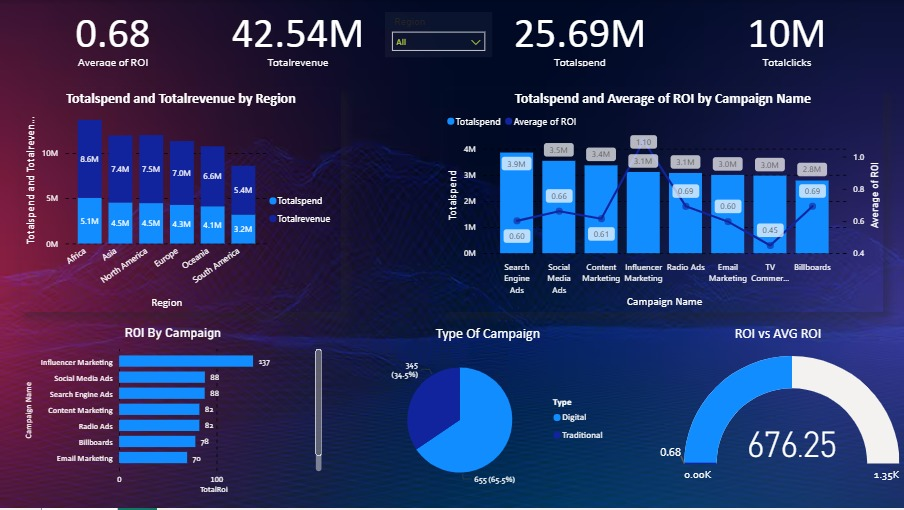

The dashboard page shown, as its layout file describes it:
{"tool":"powerbi","page":{"name":"Page 1","canvas":[1280,720],"ordinal":0},"visuals":[{"type":"columnChart","fields":{"Category":["in.Region"],"Y":["in.Totalspend","in.Totalrevenue"]},"box":[29.8,127.6,453.5,314.6],"z":0},{"type":"card","fields":{"Values":["Avg(in.ROI)"]},"box":[29.8,0,260.8,99.2],"z":1000},{"type":"card","fields":{"Values":["in.Totalrevenue"]},"box":[292,0,260.8,99.2],"z":2000},{"type":"card","fields":{"Values":["in.Totalspend"]},"box":[691.7,0,260.8,99.2],"z":3000},{"type":"card","fields":{"Values":["in.Totalclicks"]},"box":[979.4,0,272.1,99.2],"z":4000},{"type":"lineClusteredColumnComboChart","fields":{"Category":["in.Campaign Name"],"Y2":["Avg(in.ROI)"],"Y":["in.Totalspend"]},"box":[627.9,127.6,623.6,314.6],"z":5000},{"type":"barChart","title":"ROI By Campaign","fields":{"Category":["in.Campaign Name"],"Y":["in.TotalRoi"]},"box":[29.8,460.6,430.9,245.2],"z":6000},{"type":"pieChart","title":"Type Of Campaign","fields":{"Y":["CountNonNull(in.Campaign Name)"],"Category":["in (3).Type"]},"box":[514.5,460.6,354.3,245.2],"z":7000},{"type":"gauge","title":"ROI vs AVG ROI","fields":{"Y":["in.TotalRoi"],"TargetValue":["Avg(in.ROI)"]},"box":[925.5,460.6,354.3,245.2],"z":8000},{"type":"slicer","fields":{"Values":["in.Region"]},"box":[545.7,17,151.7,63.8],"z":9000}]}

Visuals, with their boxes in screenshot pixels (x1, y1, x2, y2), scaled from the page's 1280x720 canvas onto the 904x510 screenshot:
columnChart - in.Region x in.Totalspend: bbox(21, 90, 341, 313)
card - Avg(in.ROI): bbox(21, 0, 205, 70)
card - in.Totalrevenue: bbox(206, 0, 390, 70)
card - in.Totalspend: bbox(489, 0, 673, 70)
card - in.Totalclicks: bbox(692, 0, 884, 70)
lineClusteredColumnComboChart - in.Campaign Name x Avg(in.ROI): bbox(443, 90, 884, 313)
"ROI By Campaign" barChart: bbox(21, 326, 325, 500)
"Type Of Campaign" pieChart: bbox(363, 326, 614, 500)
"ROI vs AVG ROI" gauge: bbox(654, 326, 903, 500)
slicer - in.Region: bbox(385, 12, 493, 57)
